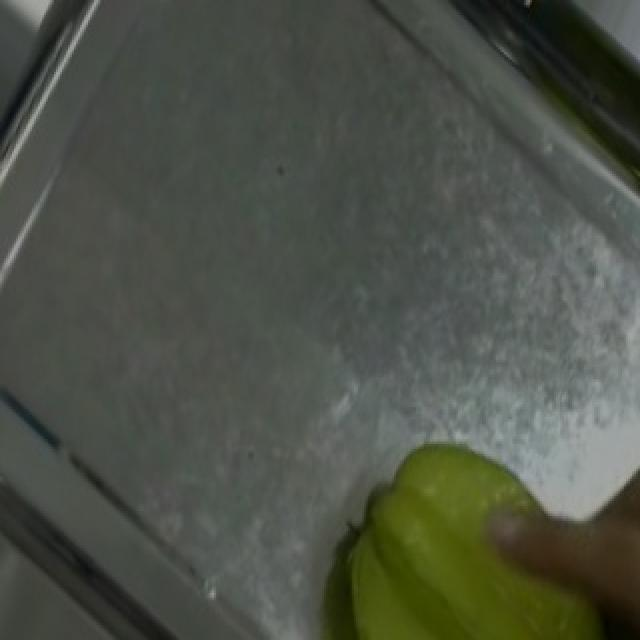fruit: (304, 397, 640, 640)
